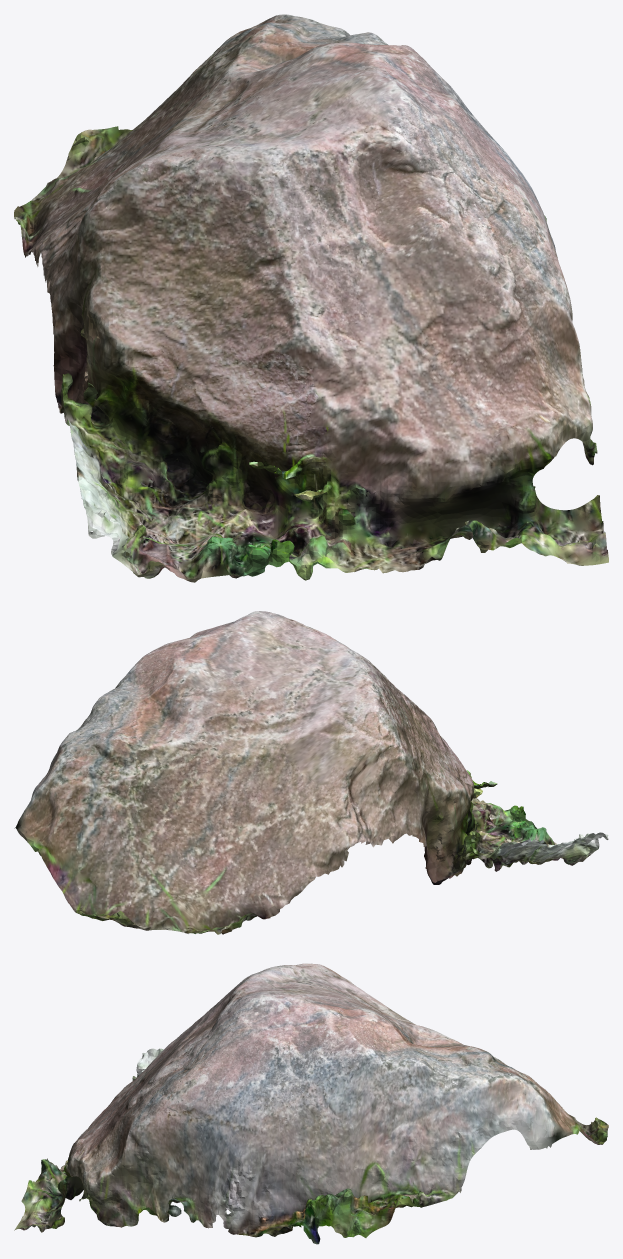
3 views of the same model, one above another, from view 1: azimuth 30°, elevation 25°; view 2: azimuth 150°, elevation 25°; view 3: azimuth 270°, elevation 25° (orthographic). The views are drawn at different scales.
Visible parts, largest first — view 1: nodes[0]; view 2: nodes[0]; view 3: nodes[0].
Part boxes in pixels (x1,y1,x2,y2): nodes[0]: (14, 14, 608, 582); nodes[0]: (14, 611, 608, 934); nodes[0]: (14, 963, 608, 1244).
Size of the model in its own units: 1.09 by 0.5715 by 1.36.
1 material, 1 textured.
